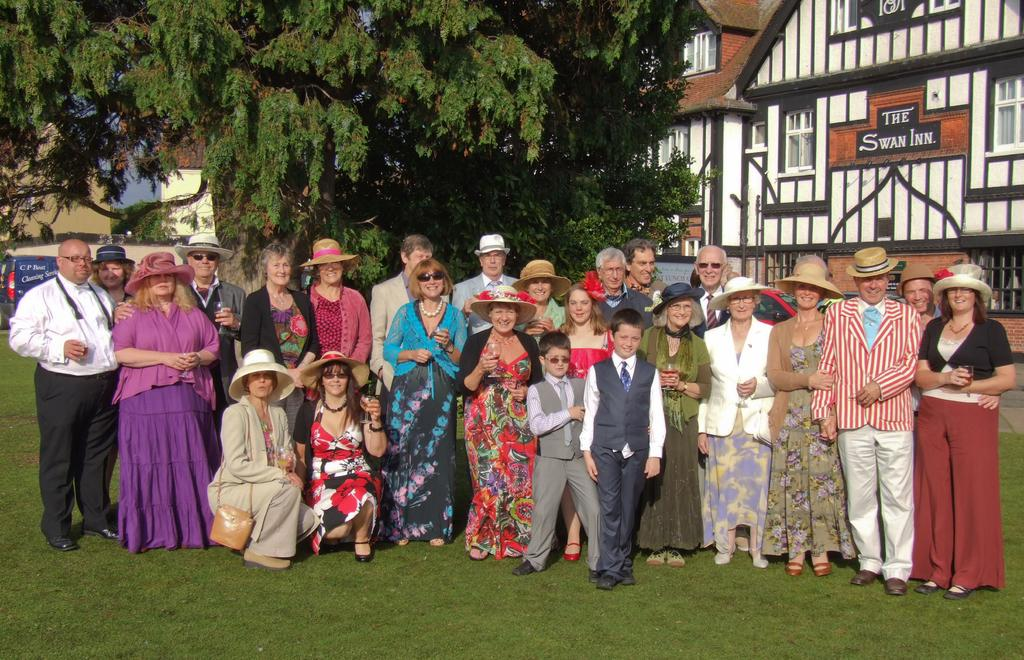Hat: (228, 350, 294, 402), (298, 348, 372, 394), (122, 250, 196, 292), (774, 254, 840, 298), (472, 284, 540, 326), (509, 258, 567, 300), (933, 262, 993, 302), (708, 274, 768, 313), (299, 235, 359, 269), (648, 279, 702, 314), (171, 230, 230, 262), (844, 247, 896, 282), (896, 264, 934, 294), (474, 232, 510, 257), (92, 244, 132, 266)
